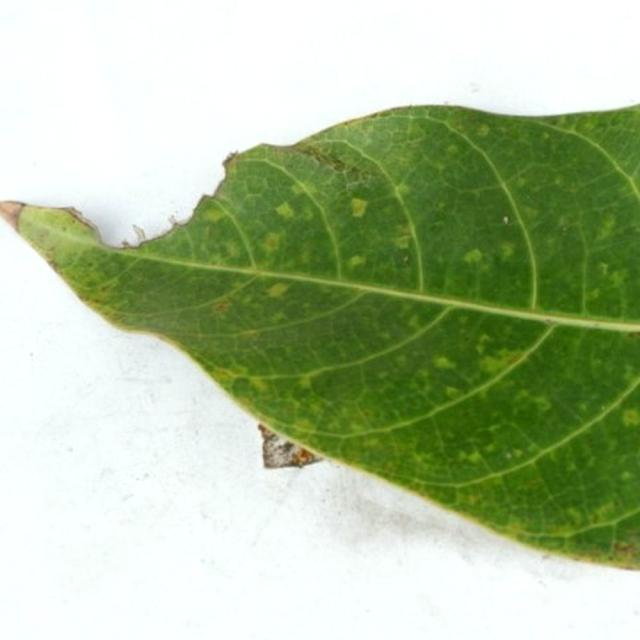Mango: (18, 106, 639, 567)
Powdery_Mildew: (341, 190, 376, 219), (479, 351, 520, 375), (266, 282, 290, 298), (498, 240, 518, 259), (598, 213, 617, 233), (275, 201, 295, 219), (202, 207, 226, 222), (520, 203, 540, 221), (212, 368, 236, 383), (462, 248, 483, 265), (263, 233, 282, 251), (220, 242, 239, 260), (622, 408, 640, 426), (608, 270, 626, 288), (433, 356, 455, 370), (249, 377, 269, 392), (533, 397, 551, 413), (348, 254, 366, 269), (429, 219, 447, 234), (395, 182, 411, 198), (297, 376, 315, 390), (290, 183, 308, 197), (566, 507, 582, 522), (466, 450, 483, 464), (476, 334, 491, 349), (395, 235, 411, 249), (585, 288, 601, 302), (444, 387, 461, 400), (213, 300, 230, 313), (596, 262, 610, 277), (406, 316, 421, 330), (271, 311, 288, 323), (476, 123, 490, 137), (445, 143, 459, 155), (621, 470, 633, 481), (511, 448, 524, 458), (98, 284, 111, 294), (403, 255, 409, 263), (503, 216, 509, 224)
